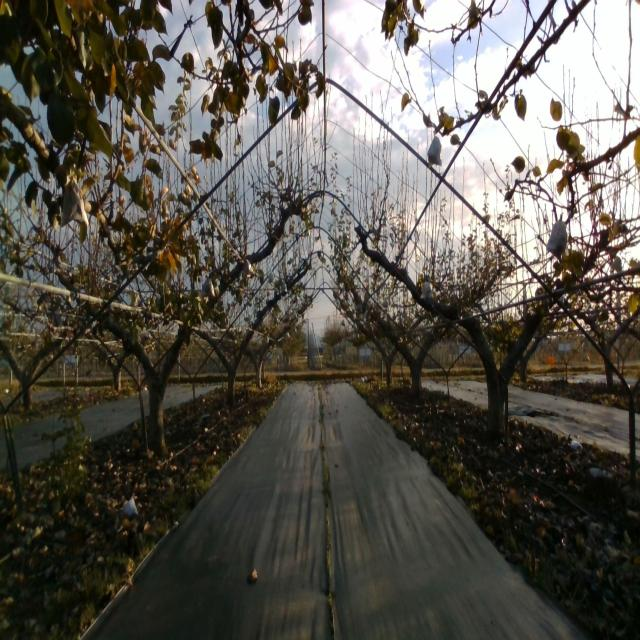pearbags: (60, 174, 89, 228), (546, 214, 568, 260), (428, 130, 442, 168), (200, 278, 216, 299), (242, 258, 254, 280), (420, 282, 432, 300)
